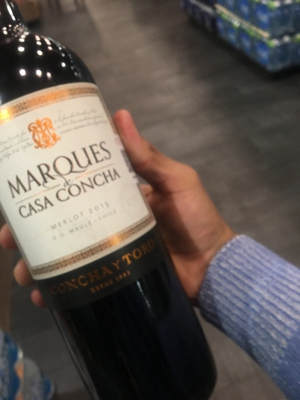marques de casa concha merlot: (1, 25, 180, 400)
